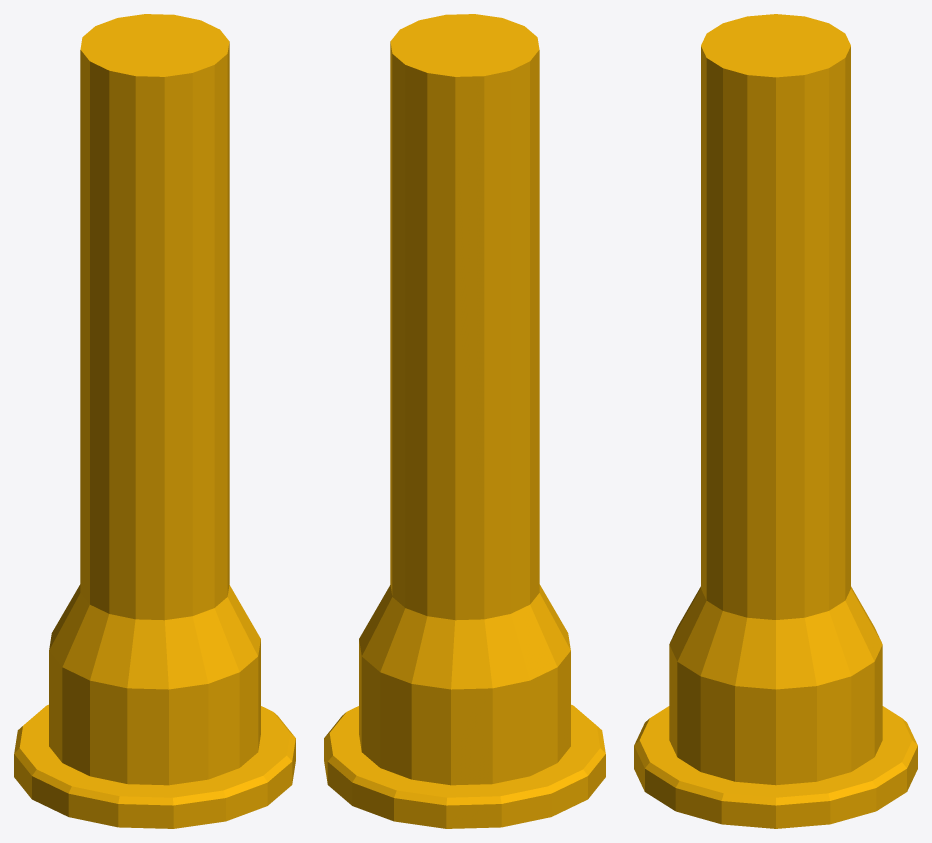
Rendered from COLUMN_BOT 1.fbx.
3 renders of one model, left to right at view 1: azimuth 30°, elevation 25°; view 2: azimuth 150°, elevation 25°; view 3: azimuth 270°, elevation 25°, orthographic.
Visible parts, largest first — view 1: COLUMN_BOT; view 2: COLUMN_BOT; view 3: COLUMN_BOT.
Part boxes in pixels (left/top/right/bottom): COLUMN_BOT: left=14, top=14, right=295, bottom=828; COLUMN_BOT: left=324, top=14, right=605, bottom=828; COLUMN_BOT: left=634, top=14, right=917, bottom=828.
Bounding box in the file's own units: 143 × 402 × 143.
